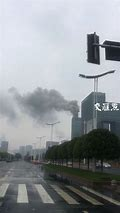smoke: (9, 83, 79, 117)
